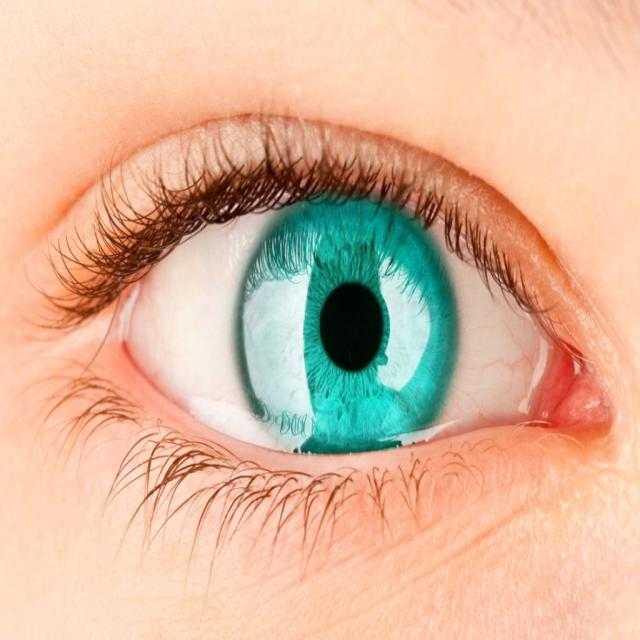Normal: (242, 179, 460, 472)
